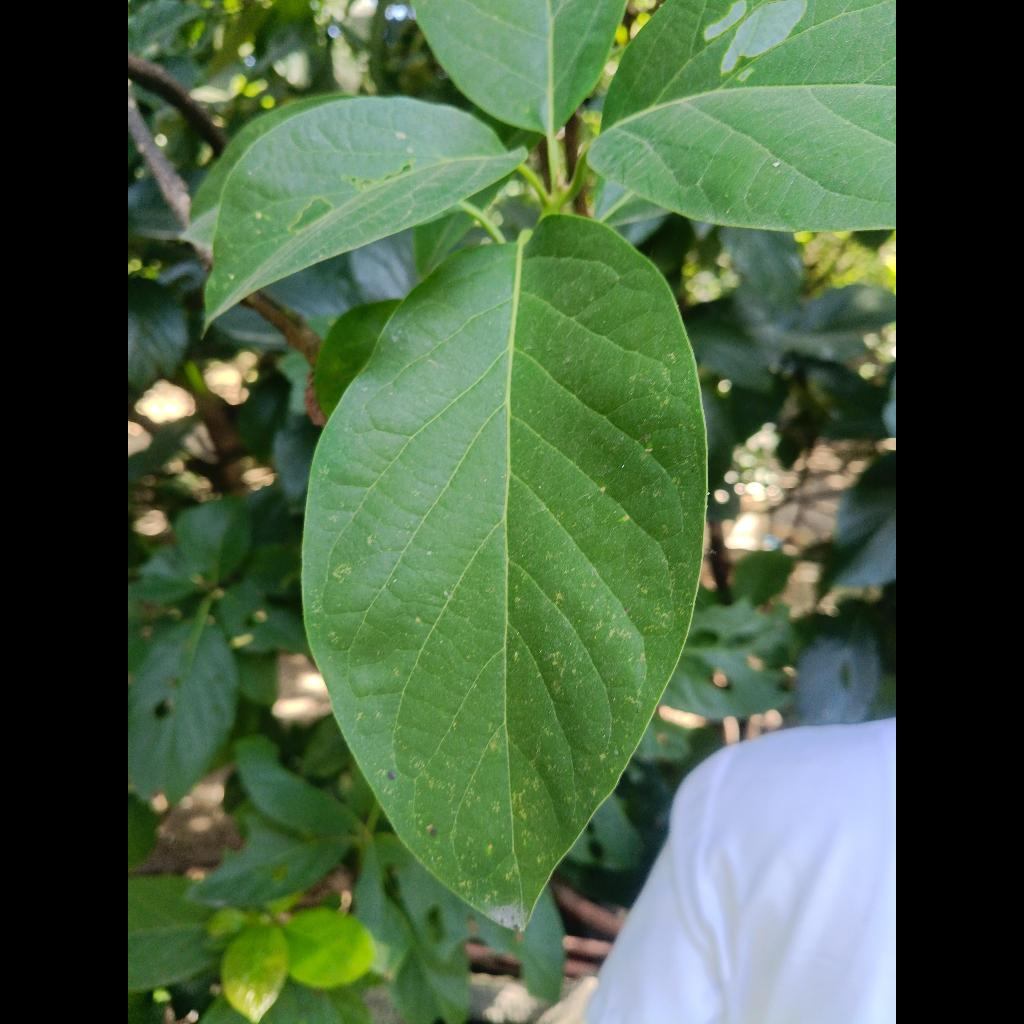hoja_sana: (304, 215, 707, 927)
